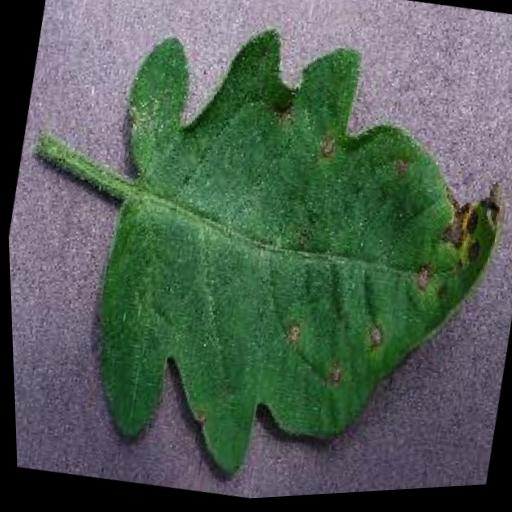Septoria: (56, 0, 512, 509)
